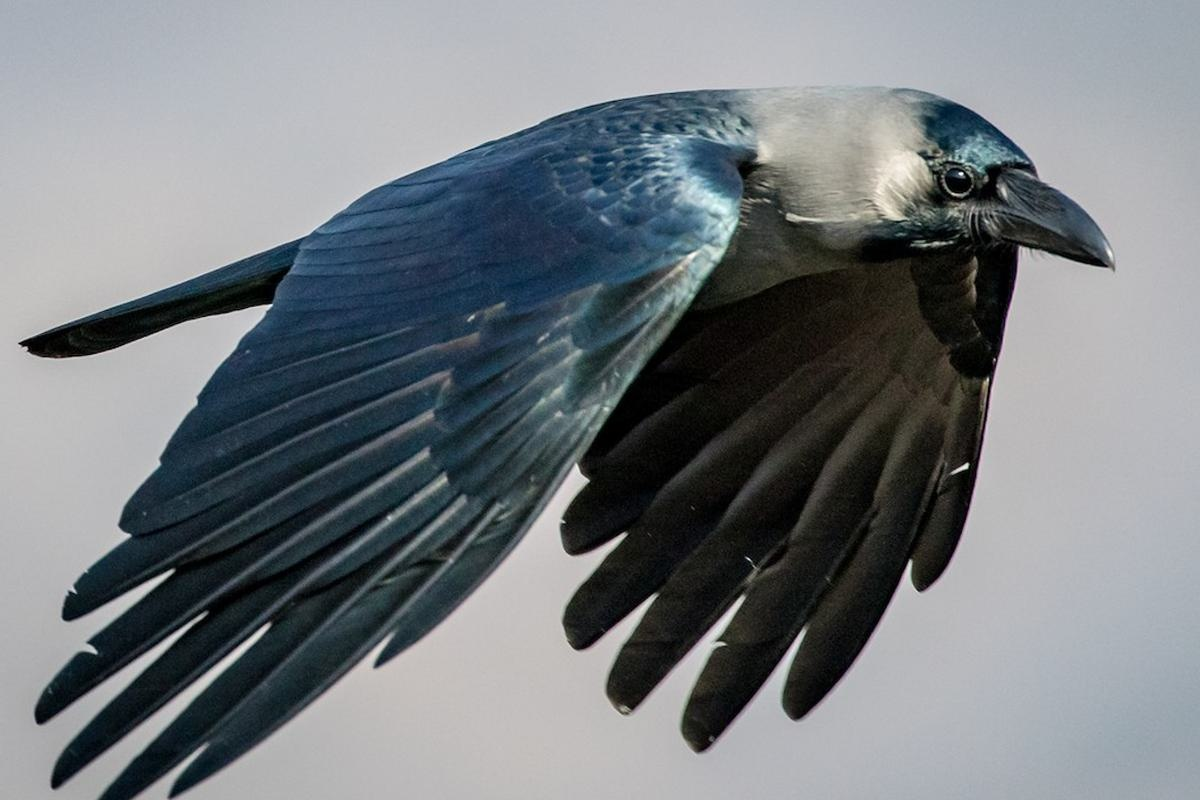crow: (1, 79, 1126, 800)
